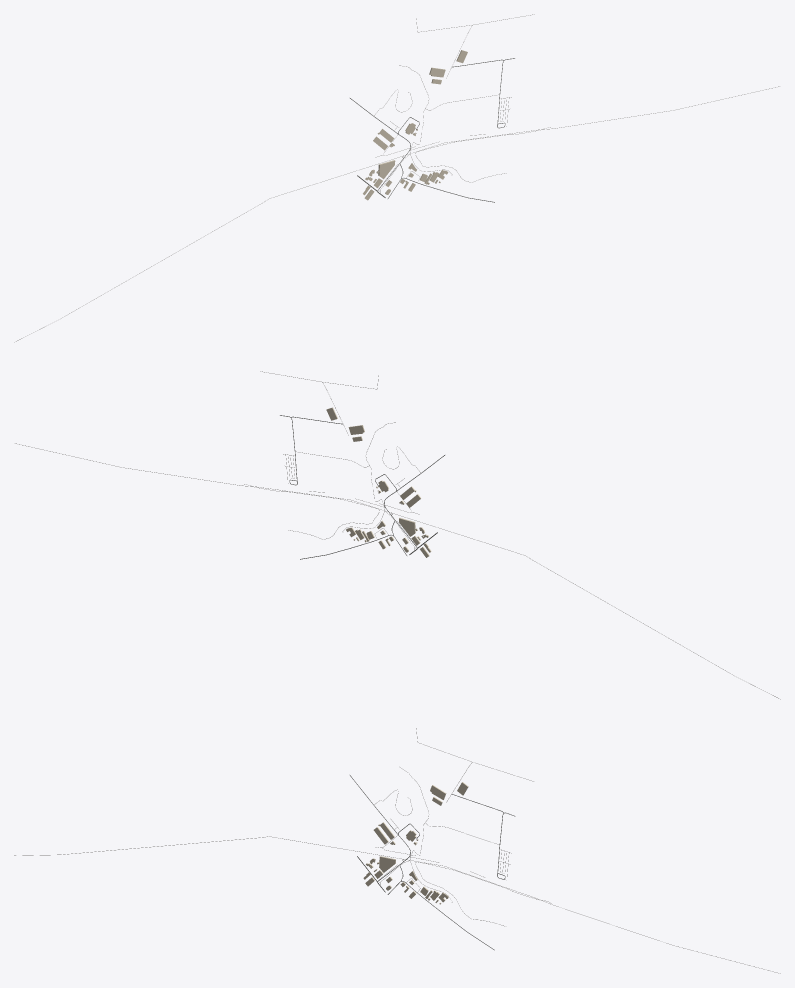
Rendered from historic-palestine-07_27_3489_3211.glb.
3 views of the same model, one above another, from view 1: azimuth 30°, elevation 25°; view 2: azimuth 150°, elevation 25°; view 3: azimuth 330°, elevation 25° (orthographic).
Visible parts, largest first — view 1: no part large enough to name; view 2: no part large enough to name; view 3: Road .018.
Boxes of the visible parts, x1,y1,x2,y2 form: Road .018: (14,836,780,973).
Size of the model in its own units: 5007 by 1409 by 11.2.
